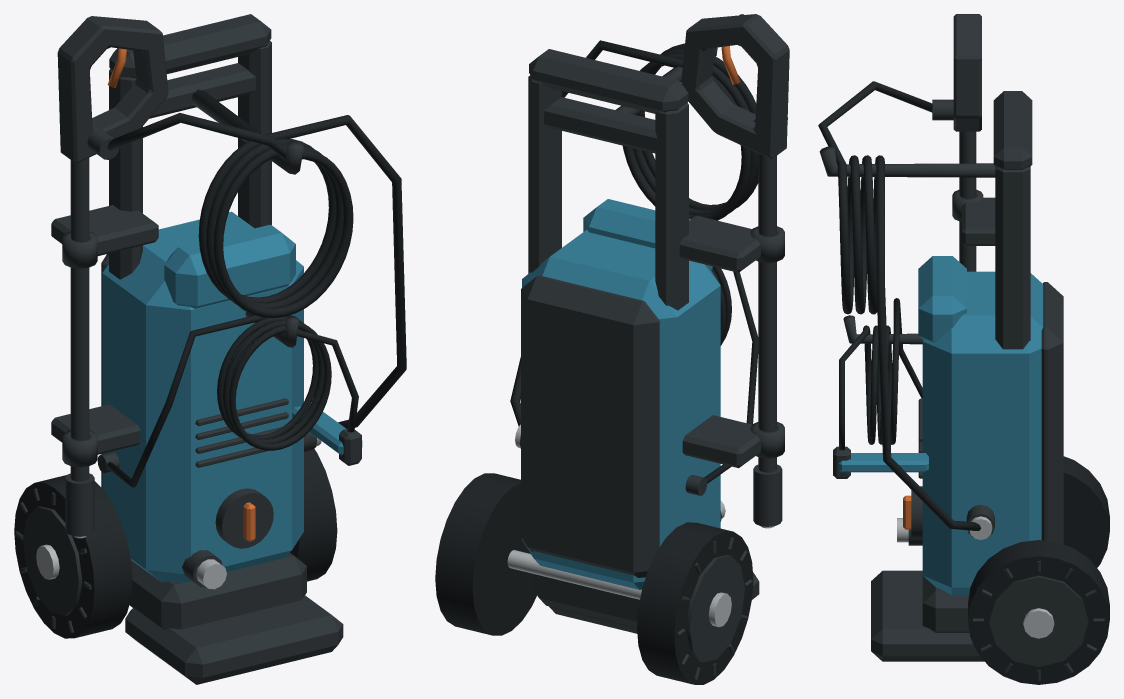
3 views of the same model, side by side, from view 1: azimuth 30°, elevation 25°; view 2: azimuth 150°, elevation 25°; view 3: azimuth 270°, elevation 25° (orthographic). The views are drawn at different scales.
Visible parts, largest first — view 1: Closed pump motor housing, Continuous stored high pressure hose, Grounded front standing foot, Stored trigger gun solid ring with open guard, Grounded wheel tire -1, Continuous stored power lead, Lower body foot bridge, Upper body control pod, Stored lance main barrel, Upper carry cross grip, Wheel inset hub -1, Tall carry handle upright 1 (+17 smaller); view 2: Rear closed housing panel, Closed pump motor housing, Grounded wheel tire 1, Grounded wheel tire -1, Stored trigger gun solid ring with open guard, Tall carry handle upright -1, Continuous stored high pressure hose, Upper carry cross grip, Tall carry handle upright 1, Stored lance main barrel, Wheel inset hub -1, Hose hook structural cross mount (+11 smaller); view 3: Closed pump motor housing, Continuous stored high pressure hose, Grounded wheel tire 1, Tall carry handle upright 1, Wheel inset hub 1, Grounded front standing foot, Rear closed housing panel, Continuous stored power lead, Grounded wheel tire -1, Upper body control pod, Stored trigger gun solid ring with open guard, Upper carry cross grip (+9 smaller).
Boxes of the visible parts, <box> form: Closed pump motor housing: <box>102,211,303,582</box>; Continuous stored high pressure hose: <box>107,113,406,428</box>; Grounded front standing foot: <box>125,595,343,684</box>; Stored trigger gun solid ring with open guard: <box>57,16,168,163</box>; Grounded wheel tire -1: <box>14,475,132,638</box>; Continuous stored power lead: <box>106,315,358,487</box>; Lower body foot bridge: <box>129,553,306,629</box>; Upper body control pod: <box>164,224,295,308</box>; Stored lance main barrel: <box>70,158,89,481</box>; Upper carry cross grip: <box>109,14,271,78</box>; Wheel inset hub -1: <box>23,506,82,615</box>; Tall carry handle upright 1: <box>238,41,271,228</box>; Rear closed housing panel: <box>521,275,659,577</box>; Closed pump motor housing: <box>522,229,720,589</box>; Grounded wheel tire 1: <box>435,473,536,635</box>; Grounded wheel tire -1: <box>637,522,753,684</box>; Stored trigger gun solid ring with open guard: <box>681,14,789,159</box>; Tall carry handle upright -1: <box>655,103,688,310</box>; Continuous stored high pressure hose: <box>510,14,758,426</box>; Upper carry cross grip: <box>529,49,688,113</box>; Tall carry handle upright 1: <box>528,75,561,273</box>; Stored lance main barrel: <box>758,153,776,472</box>; Wheel inset hub -1: <box>686,554,744,662</box>; Hose hook structural cross mount: <box>544,97,657,153</box>; Closed pump motor housing: <box>922,271,1043,595</box>; Continuous stored high pressure hose: <box>818,81,980,530</box>; Grounded wheel tire 1: <box>968,540,1109,684</box>; Tall carry handle upright 1: <box>995,166,1030,349</box>; Wheel inset hub 1: <box>989,575,1088,666</box>; Grounded front standing foot: <box>871,570,984,661</box>; Rear closed housing panel: <box>1041,282,1063,544</box>; Continuous stored power lead: <box>839,298,922,450</box>; Grounded wheel tire -1: <box>1063,456,1109,567</box>; Upper body control pod: <box>918,256,966,342</box>; Stored trigger gun solid ring with open guard: <box>953,14,981,131</box>; Upper carry cross grip: <box>993,91,1032,169</box>.
Bounding box in the file's own units: 46.87 × 96.88 × 45.19.
